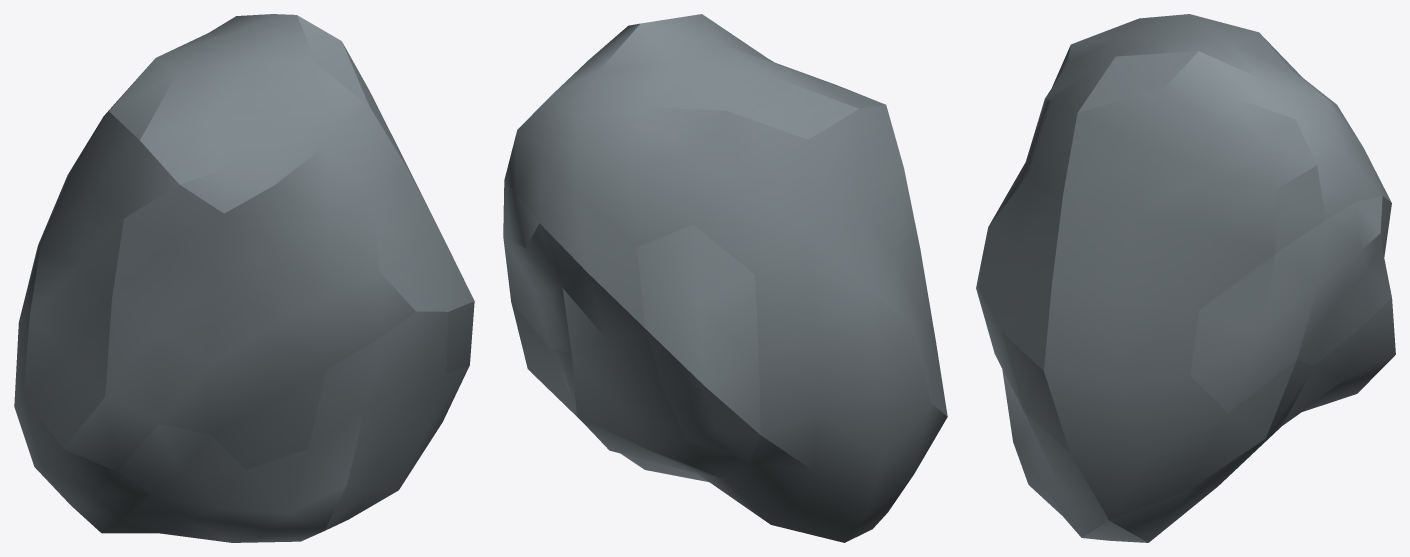
File: Rock_3_P_Color1.glb
The picture shows the model from 3 angles, left to right: view 1: azimuth 30°, elevation 25°; view 2: azimuth 150°, elevation 25°; view 3: azimuth 270°, elevation 25°; orthographic projection. The views are drawn at different scales.
Visible parts, largest first — view 1: Rock_3_P_Color1; view 2: Rock_3_P_Color1; view 3: Rock_3_P_Color1.
Part boxes in pixels (x1,y1,x2,y2): Rock_3_P_Color1: [14, 14, 474, 542]; Rock_3_P_Color1: [503, 14, 947, 542]; Rock_3_P_Color1: [976, 14, 1395, 542].
Bounding box in the file's own units: 3.29 × 3.68 × 2.87.
1 material, 1 textured.
